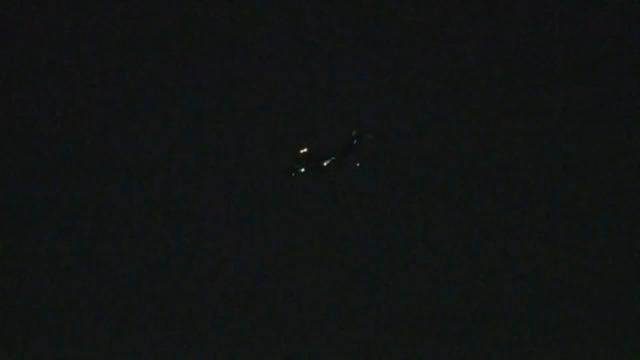Plane: (286, 122, 368, 185)
